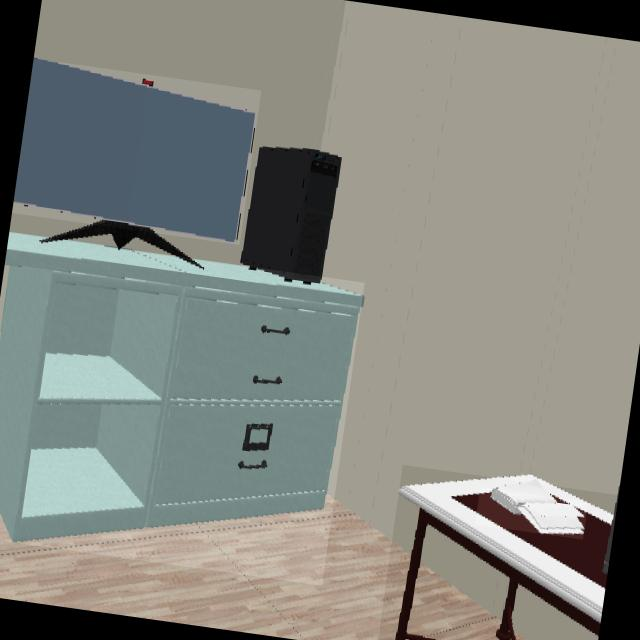book: (479, 489, 585, 535)
cabinet: (0, 241, 363, 542)
monitor: (13, 59, 256, 243)
table: (399, 478, 613, 640)
